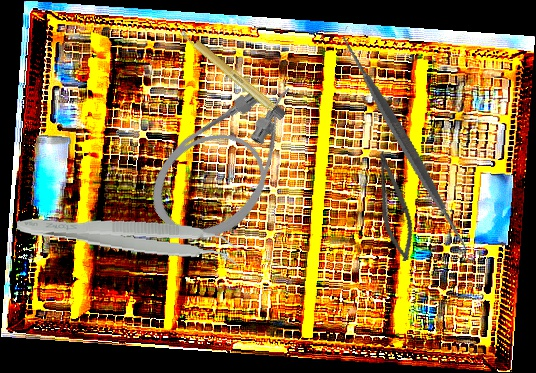Cannula: (132, 63, 334, 261)
Micro Scissor: (364, 148, 422, 264)
Scalpel Handle: (178, 27, 287, 121)
Spatula Surgical: (284, 26, 525, 261)
Tissue Forceps: (14, 210, 243, 268)
